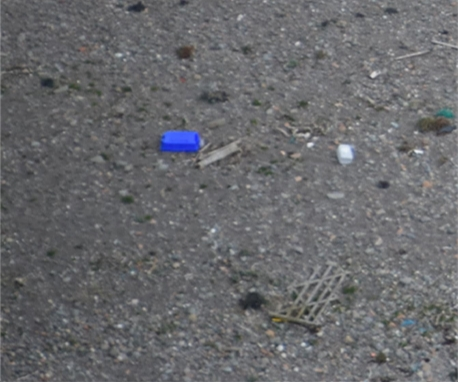cuboid: (261, 254, 352, 332)
straight_bar: (188, 135, 247, 175)
white_in_green: (135, 95, 224, 182), (298, 112, 387, 199)
